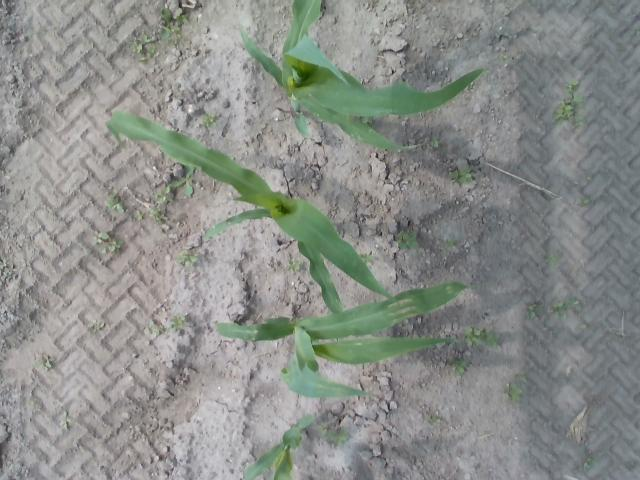Maize: (105, 107, 402, 314), (238, 0, 487, 152), (215, 282, 469, 398), (244, 414, 316, 480)
Weeds: (554, 80, 581, 120), (132, 32, 158, 61), (170, 166, 194, 195), (144, 319, 164, 338), (399, 231, 418, 251), (328, 429, 350, 445), (106, 196, 125, 214), (101, 238, 125, 252), (157, 186, 175, 204), (175, 15, 192, 32), (179, 252, 197, 268), (162, 10, 172, 38), (452, 169, 472, 183), (507, 382, 522, 400), (451, 356, 466, 373), (90, 231, 108, 245), (466, 328, 480, 345), (88, 318, 106, 331), (548, 300, 564, 314), (171, 314, 186, 328), (426, 137, 440, 151), (528, 304, 542, 318), (548, 254, 564, 266), (486, 334, 498, 350), (290, 261, 303, 273), (158, 210, 170, 221), (428, 416, 441, 426), (43, 355, 54, 366), (567, 296, 578, 307), (202, 116, 213, 126), (578, 195, 589, 205), (444, 239, 456, 248), (459, 348, 472, 356), (149, 208, 158, 218), (362, 254, 373, 262), (136, 210, 144, 220)
